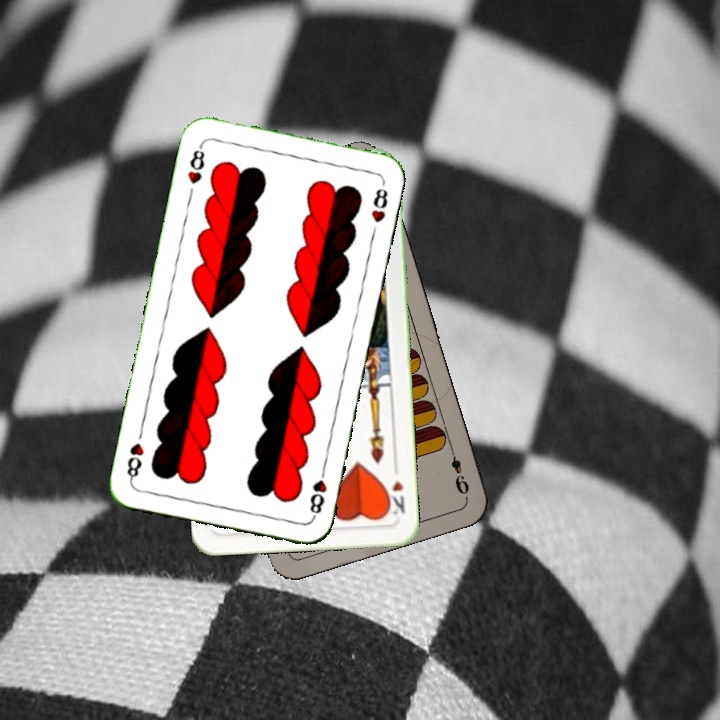E9: (446, 442, 472, 497)
H8: (305, 462, 329, 521), (183, 140, 208, 187)
HK: (382, 476, 407, 517)
